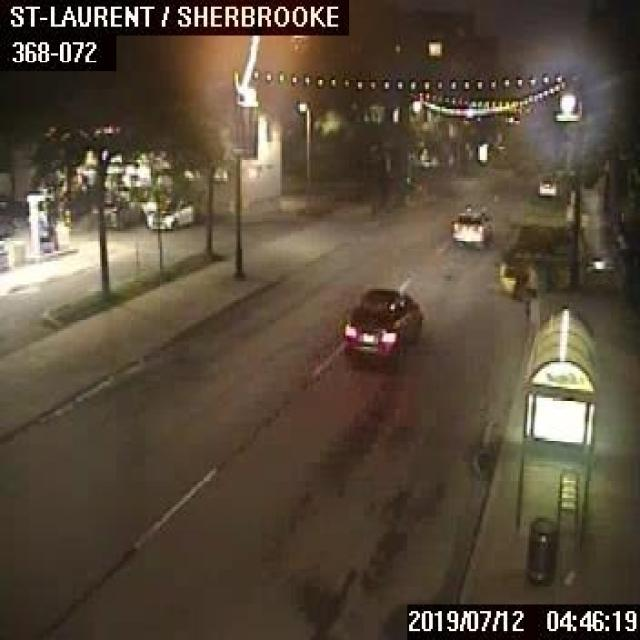vehicle: (338, 286, 420, 358), (449, 203, 493, 244), (144, 198, 197, 228), (102, 196, 142, 227), (536, 176, 556, 196)
